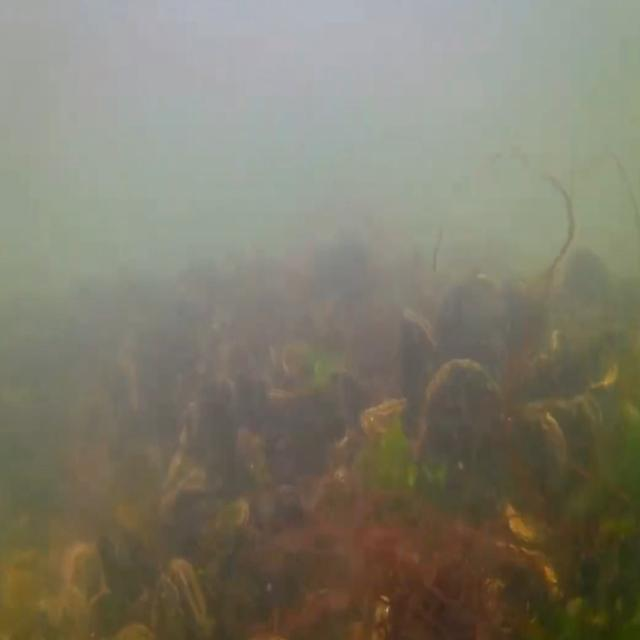Oyster-Closed: (400, 304, 445, 438), (360, 397, 413, 444), (197, 498, 250, 544), (265, 381, 299, 405)
Oyster-Indeterminate: (412, 358, 507, 493), (492, 406, 570, 497), (528, 395, 606, 485), (195, 377, 238, 488), (494, 538, 563, 598), (160, 401, 198, 502), (232, 427, 273, 500), (502, 501, 562, 544), (160, 464, 208, 512)
Oyster-Open: (148, 557, 210, 640)
